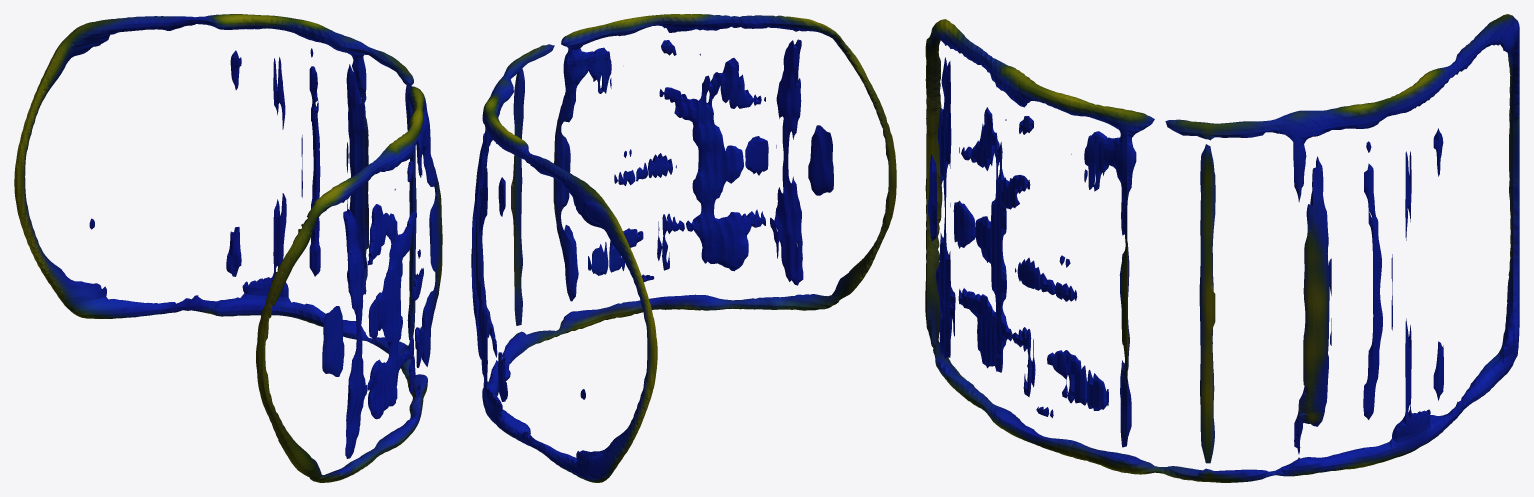
The model's file is A barrel with radioactive sign on it_1749673439.obj.
3 views of the same model, side by side, from view 1: azimuth 30°, elevation 25°; view 2: azimuth 150°, elevation 25°; view 3: azimuth 270°, elevation 25° (orthographic). The views are drawn at different scales.
Bounding box in the file's own units: 1.26 × 1.32 × 1.98.
